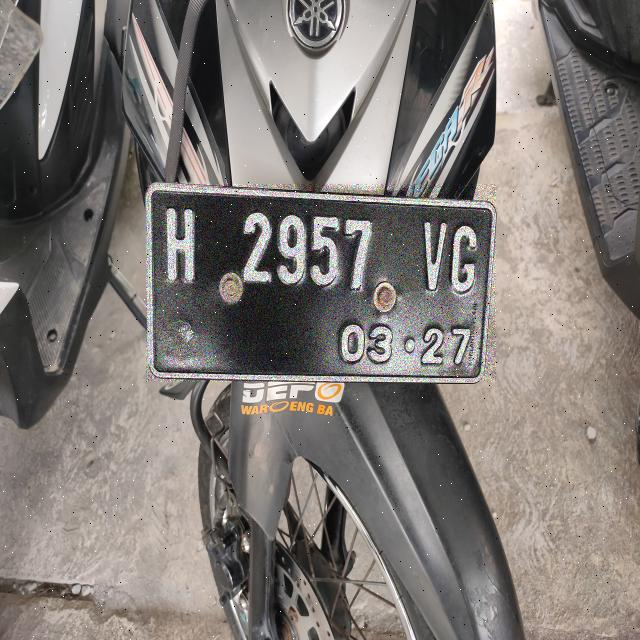plate: (147, 185, 495, 381)
